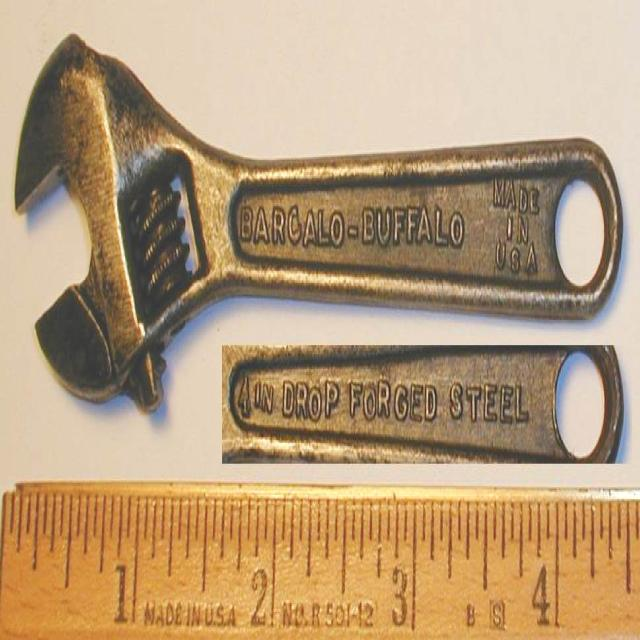wrench: (1, 0, 603, 433)
